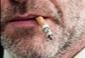Cigarette: (36, 16, 53, 40)
